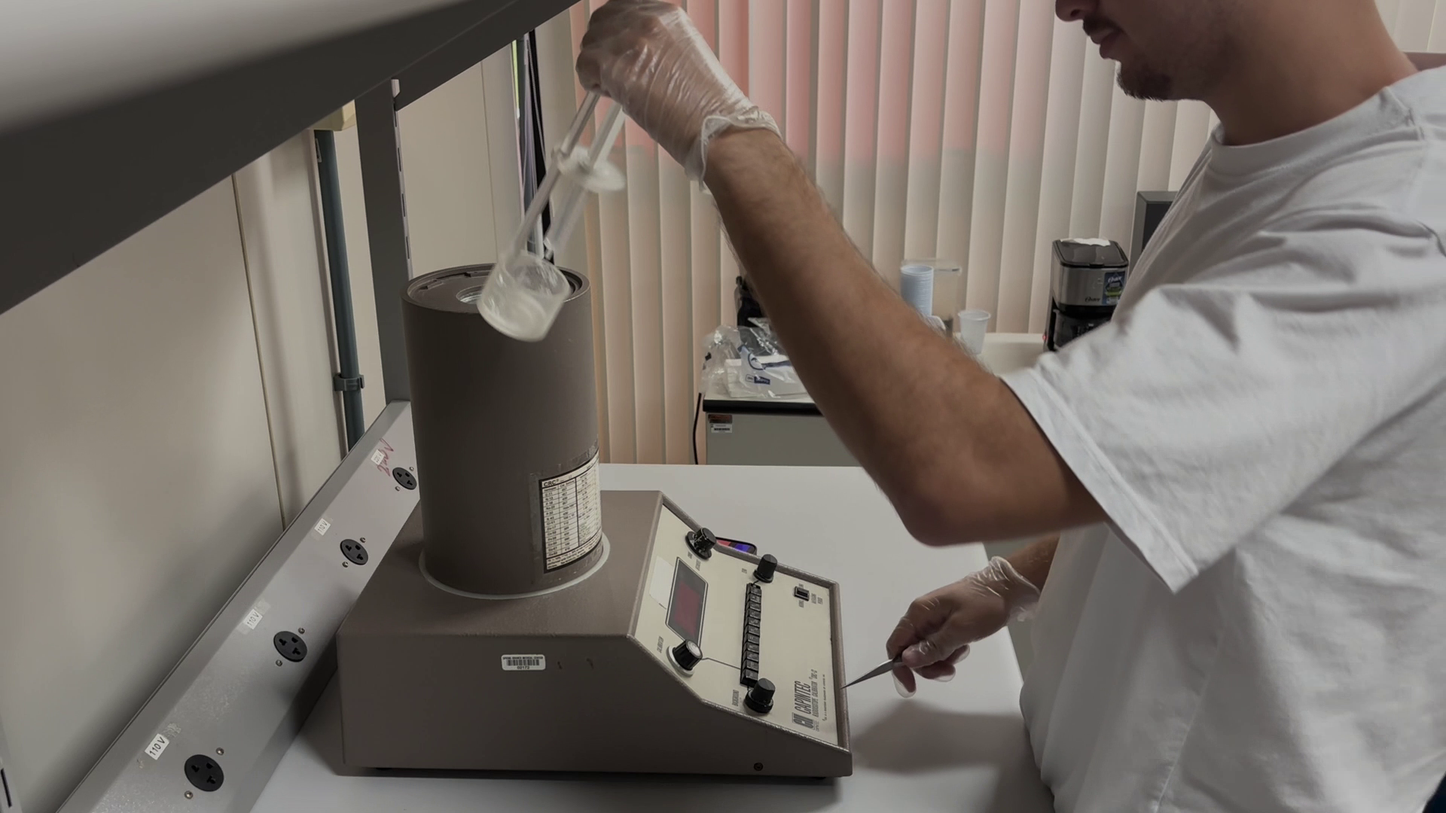Ativimetro: (399, 247, 610, 586)
Cesta: (473, 84, 624, 349)
Com_Luva: (575, 1, 782, 182), (882, 550, 1042, 709)
